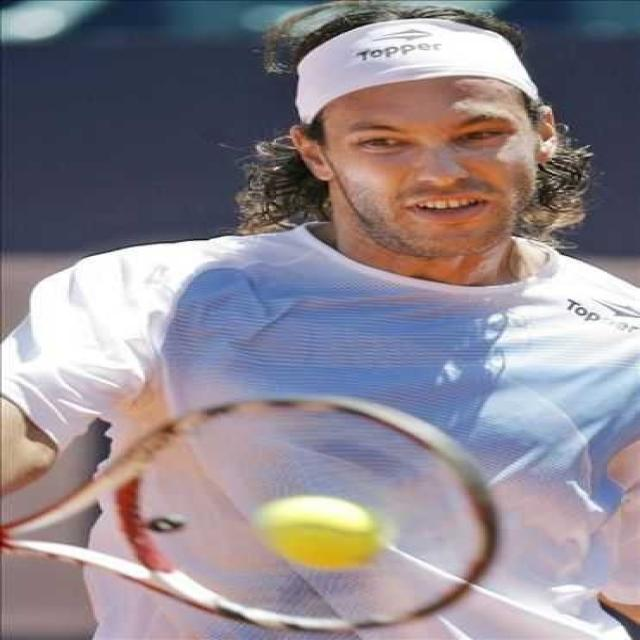Tennis_Ball: (259, 494, 372, 576)
